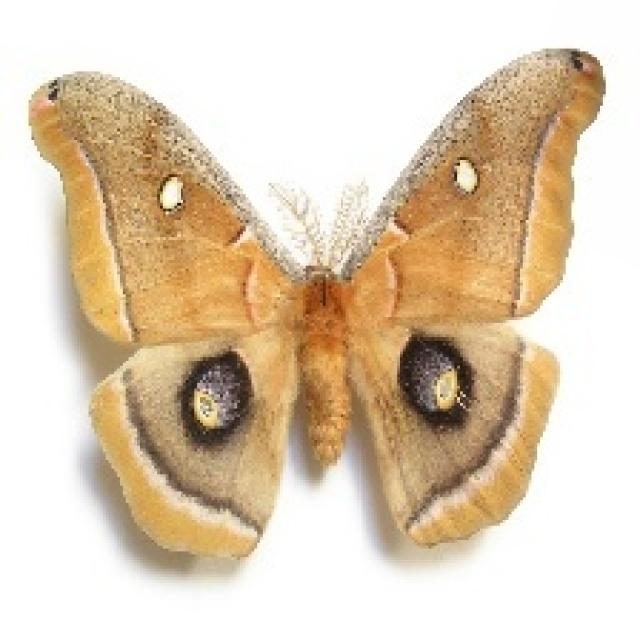butterfly: (26, 43, 606, 560)
